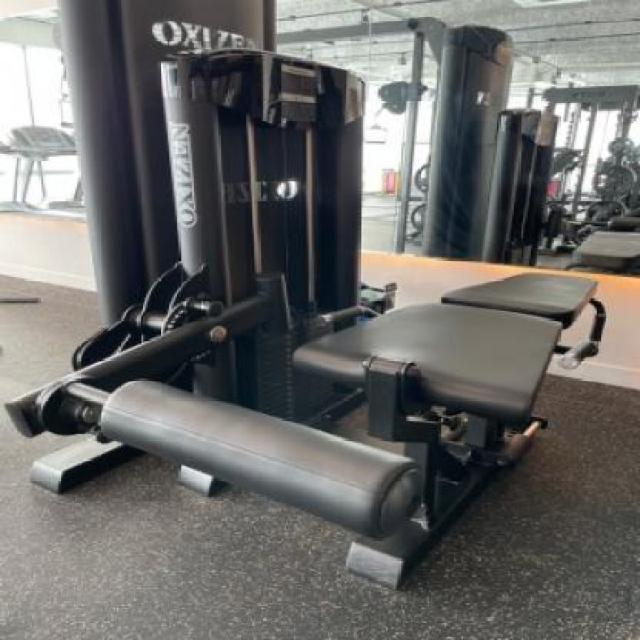reg curl machine: (7, 0, 620, 598)
